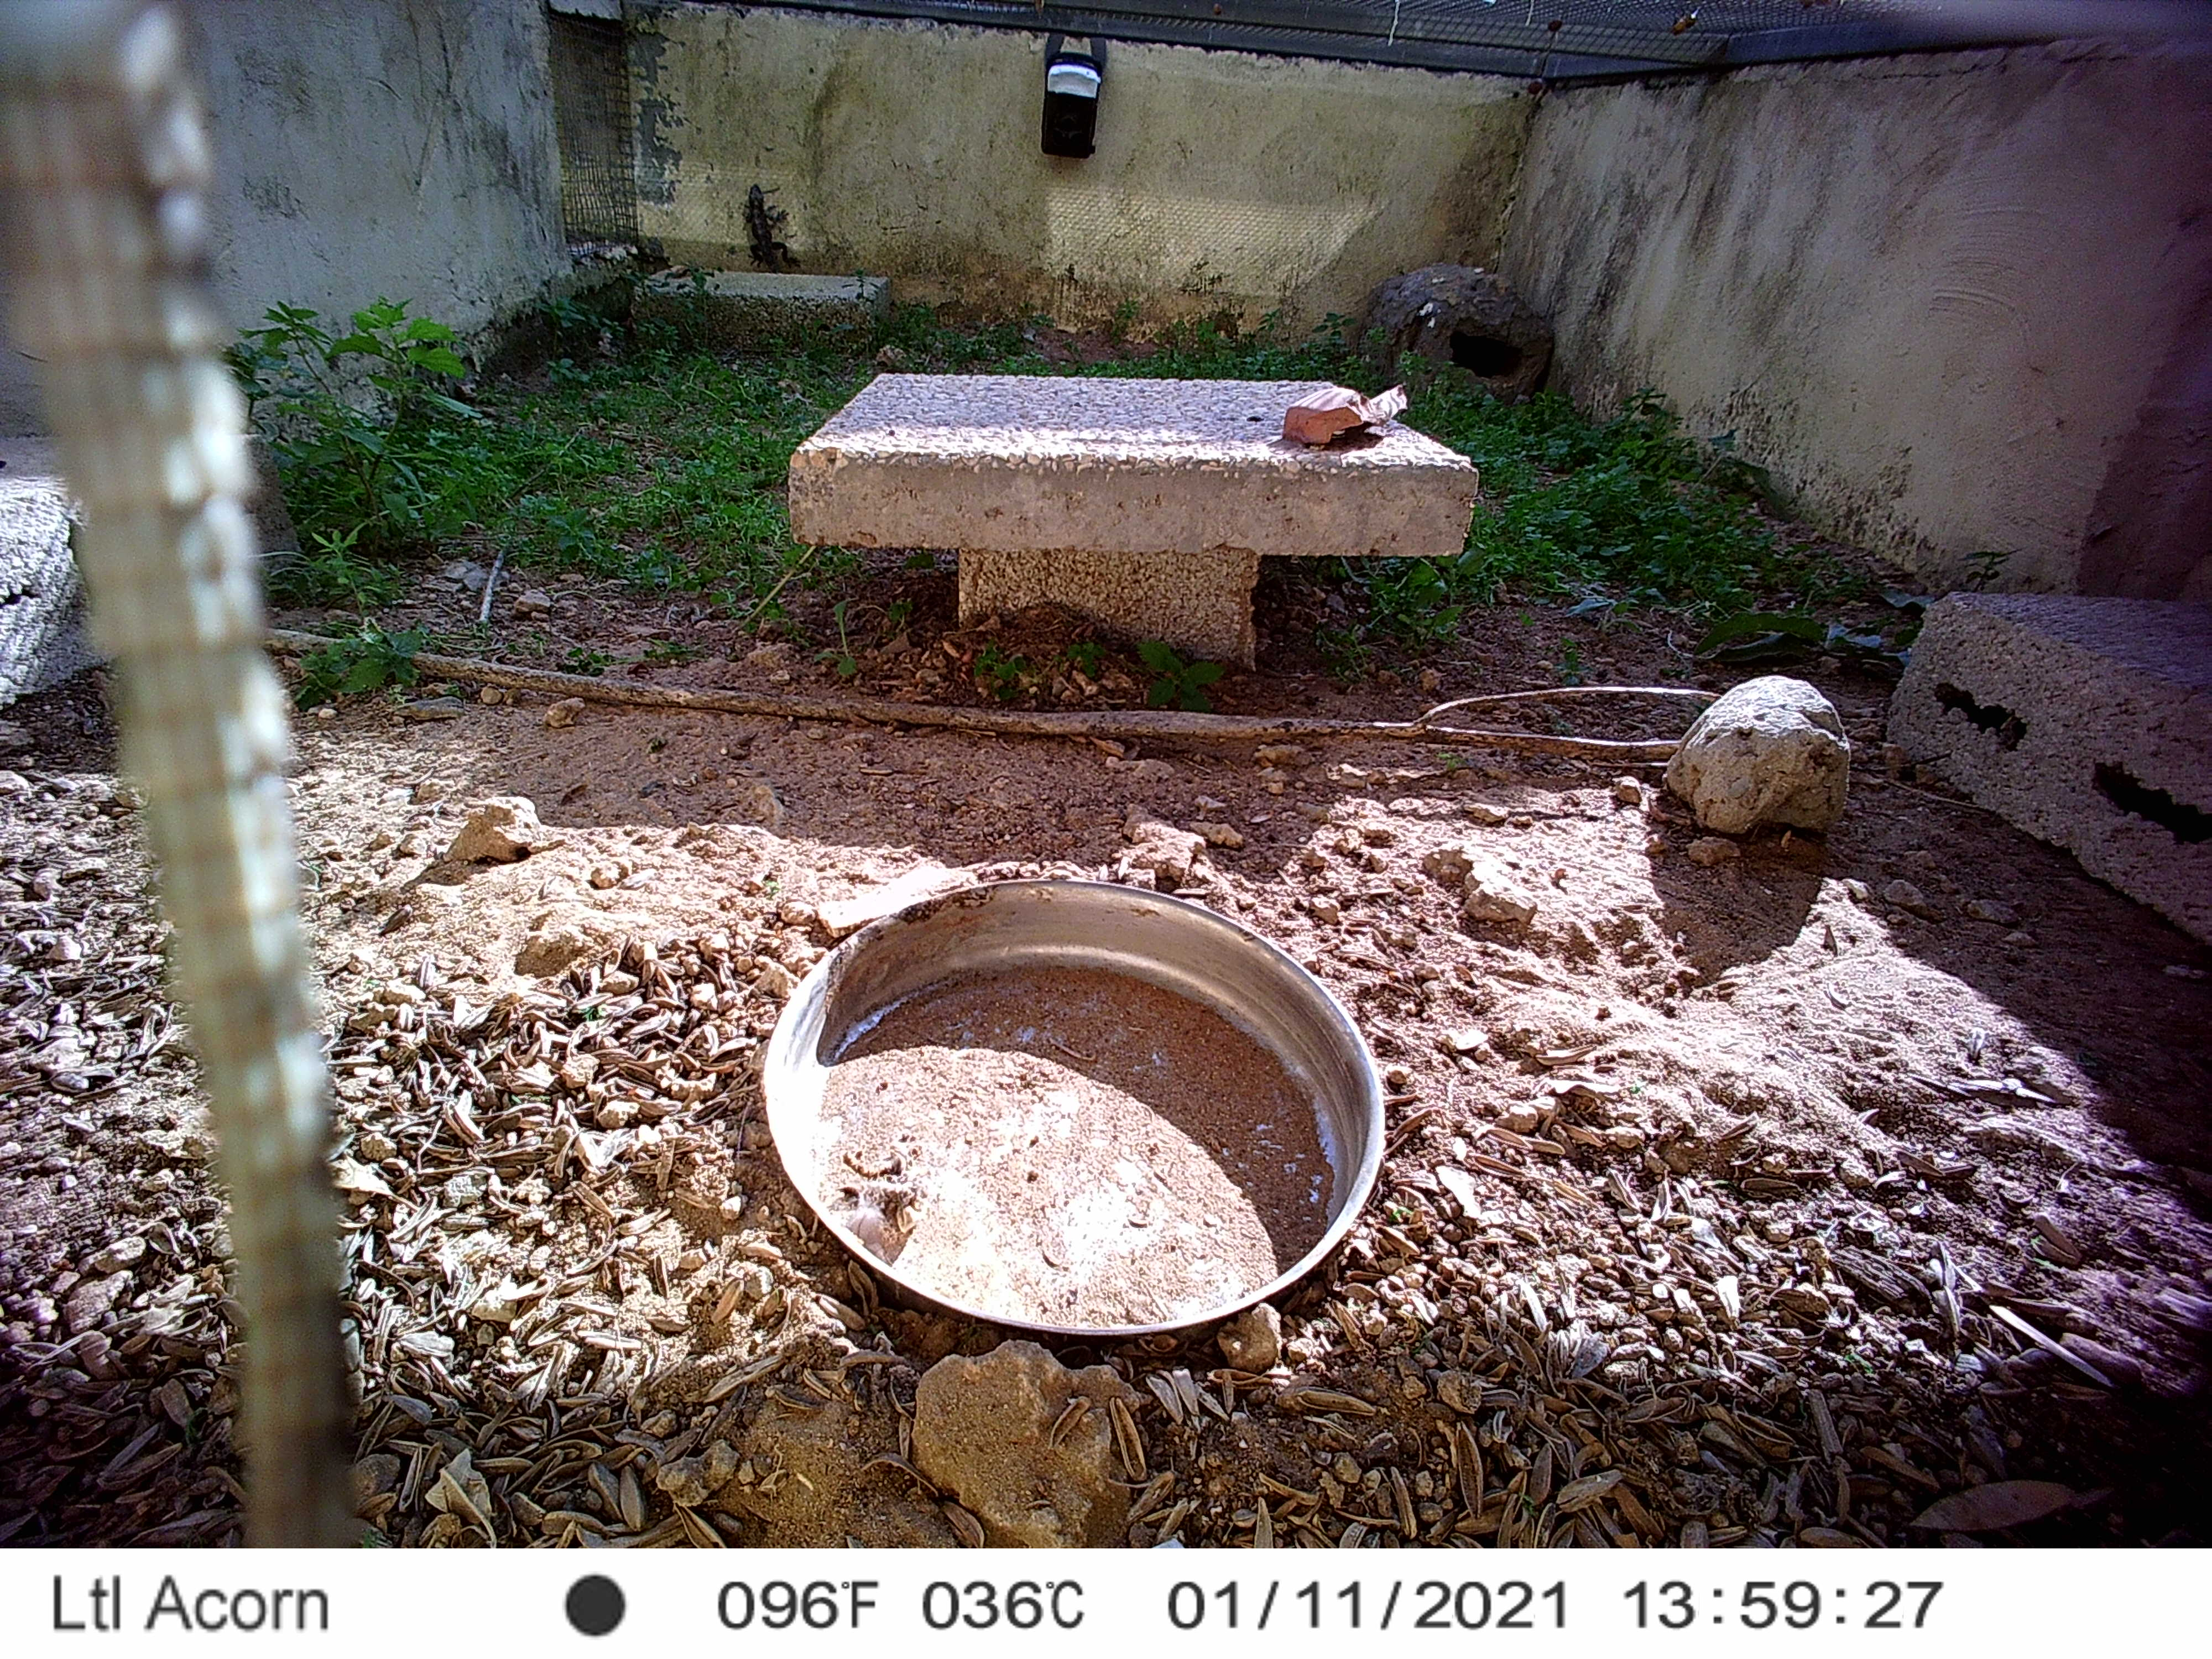lizard: (0, 2, 347, 1546), (738, 179, 803, 277)
